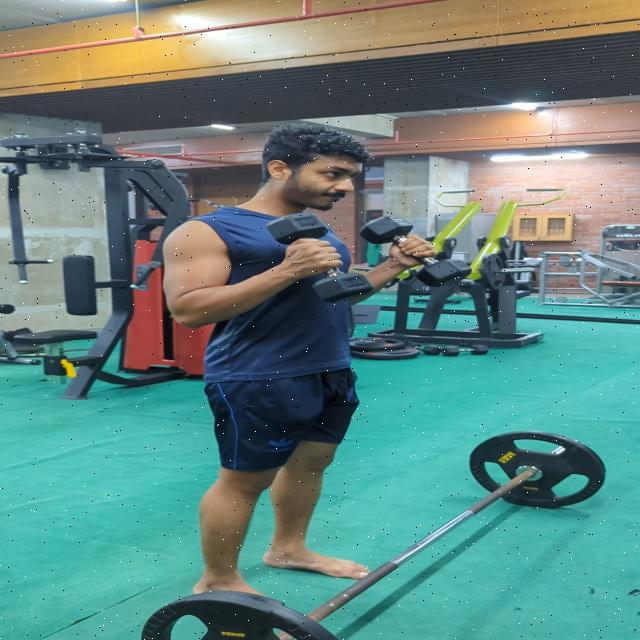Normal_DumbbellBicepCurls: (155, 121, 473, 604)
